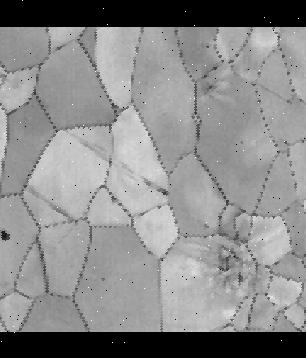good_void: (207, 230, 249, 289), (143, 176, 172, 197), (0, 219, 15, 246), (200, 80, 220, 98), (236, 131, 248, 147), (200, 217, 212, 231), (202, 40, 213, 55), (99, 276, 107, 283)
